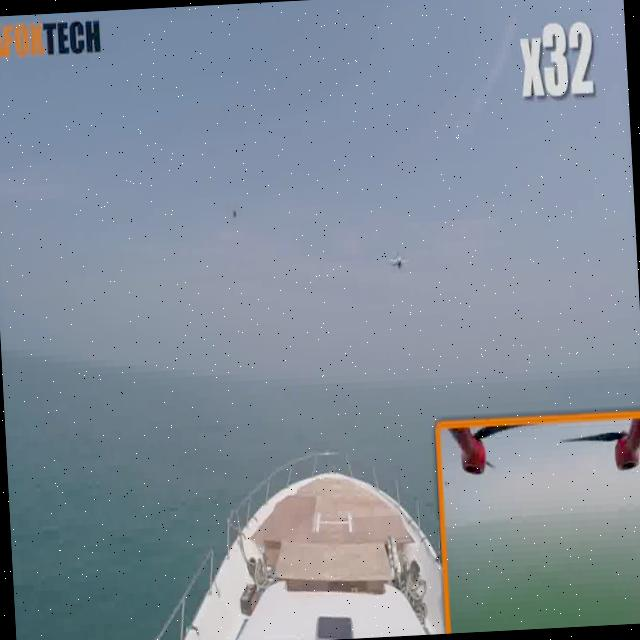drone: (381, 235, 418, 292), (226, 197, 243, 232)
